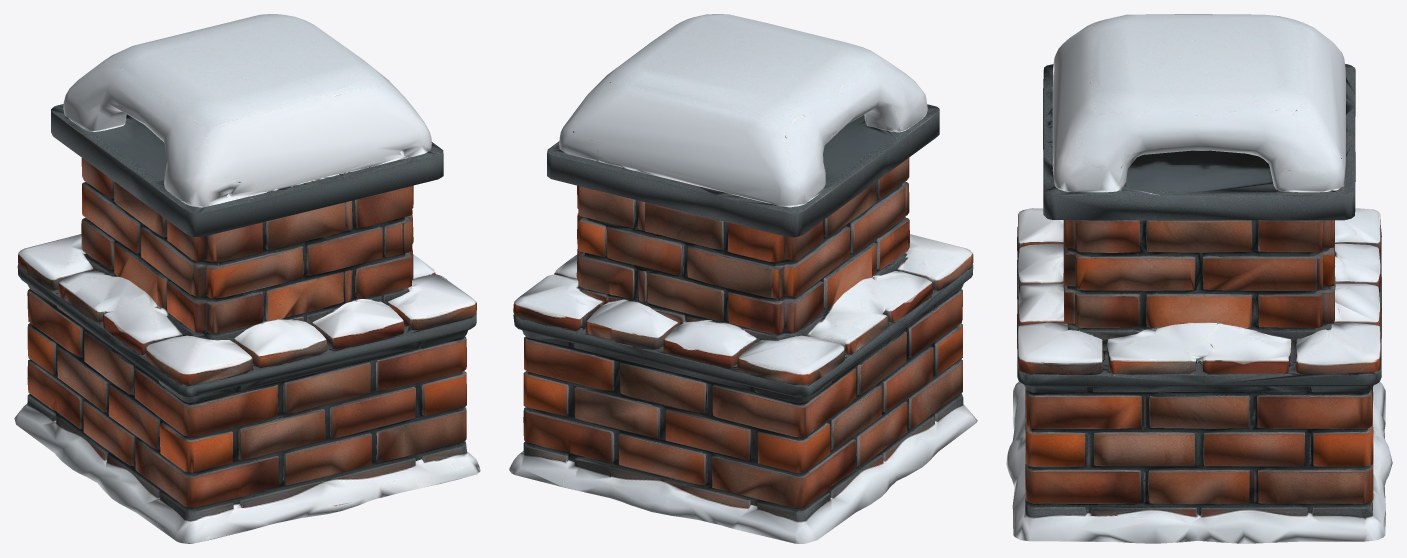
File: toit-cheminee.glb
3 renders of one model, left to right at view 1: azimuth 30°, elevation 25°; view 2: azimuth 150°, elevation 25°; view 3: azimuth 270°, elevation 25°, orthographic. The views are drawn at different scales.
Bounding box in the file's own units: 1.61 × 1.9 × 1.63.
1 material, 1 textured.
